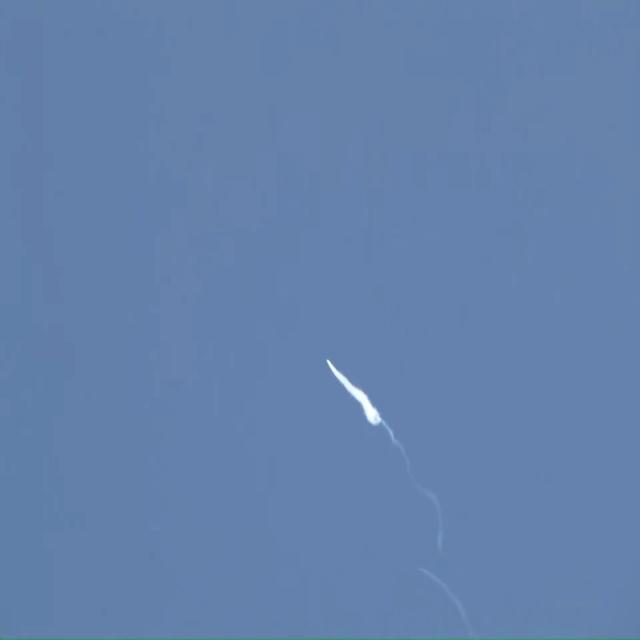Rocket: (324, 355, 328, 361)
